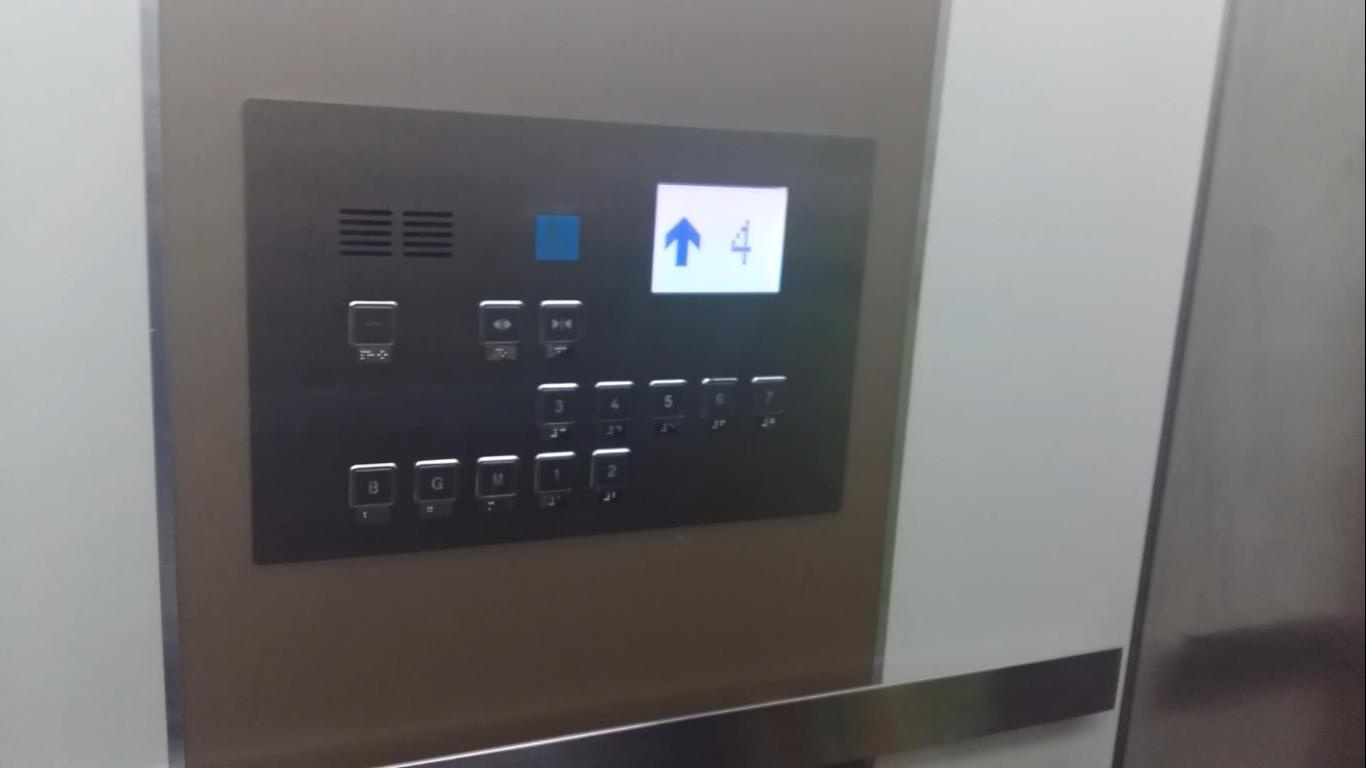1: (533, 451, 575, 494)
2: (590, 448, 631, 489)
3: (533, 380, 581, 427)
4: (593, 378, 635, 423)
5: (646, 377, 688, 420)
6: (700, 375, 740, 418)
7: (748, 374, 790, 417)
B: (349, 462, 398, 510)
G: (413, 460, 459, 504)
M: (474, 455, 519, 499)
blur: (348, 300, 397, 348), (534, 213, 580, 263)
close: (537, 298, 583, 344)
led: (648, 181, 791, 294)
open: (478, 298, 526, 343)
